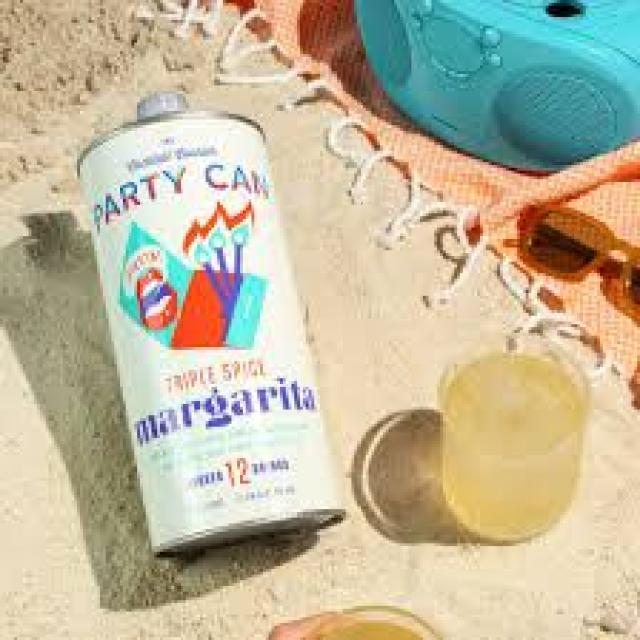Cans: (66, 105, 354, 566)
